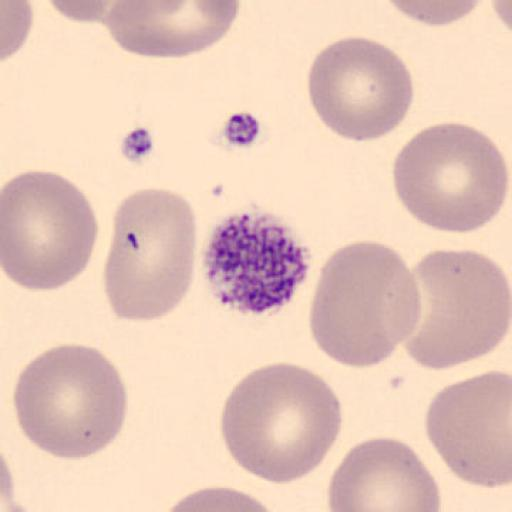Platelet: (198, 207, 318, 319)
RBC: (218, 360, 344, 486), (307, 238, 423, 370), (11, 342, 130, 461), (391, 120, 509, 235), (402, 247, 510, 371), (103, 186, 199, 322), (2, 168, 100, 293), (305, 35, 415, 143), (424, 369, 512, 490), (326, 434, 442, 512), (102, 1, 240, 60), (160, 485, 284, 512), (381, 0, 488, 27), (0, 445, 38, 512), (0, 0, 34, 63), (44, 0, 124, 24), (0, 447, 16, 512), (489, 0, 512, 34)
